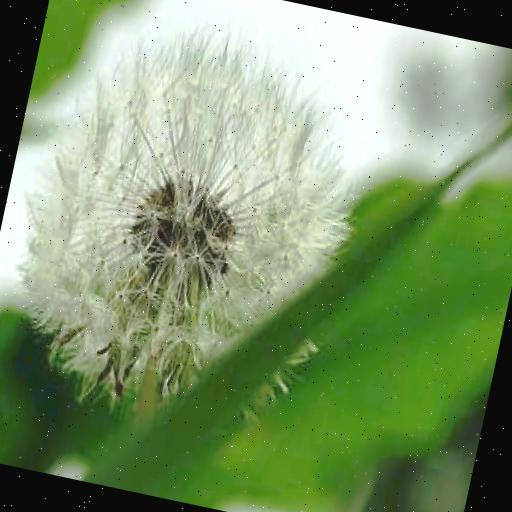dandelion: (2, 7, 379, 440)
